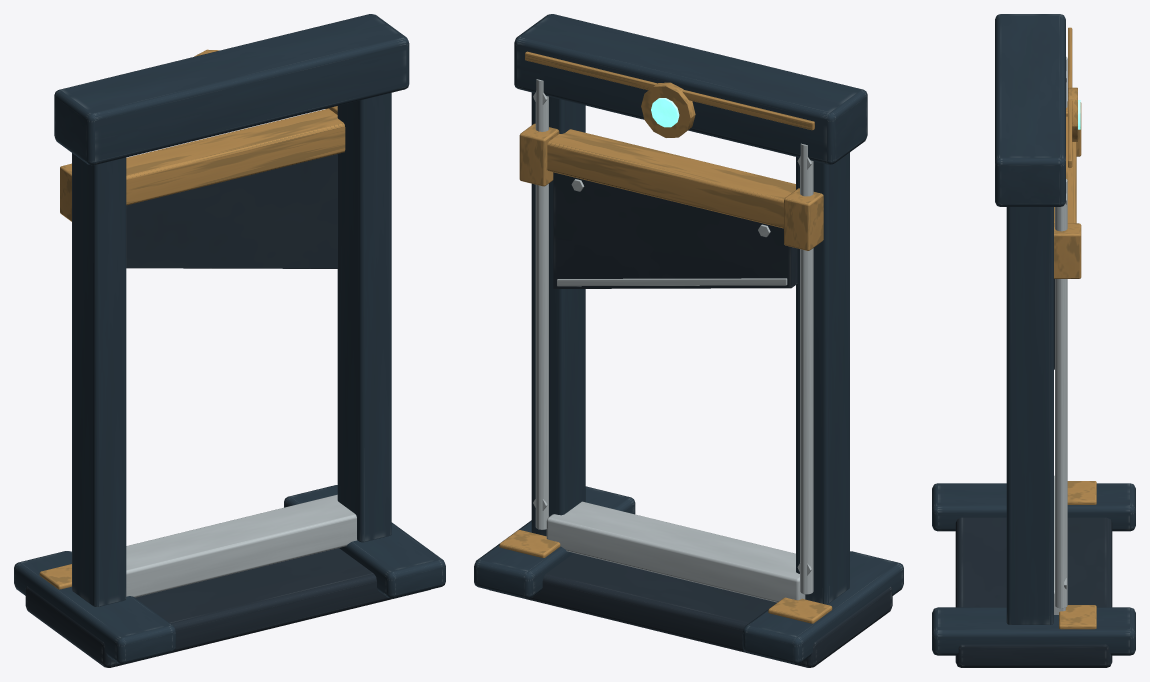
File: guillotine.glb
The picture shows the model from 3 angles, left to right: view 1: azimuth 30°, elevation 25°; view 2: azimuth 150°, elevation 25°; view 3: azimuth 270°, elevation 25°; orthographic projection. The views are drawn at different scales.
Parts seen in each view (by area): view 1: guillotine__crown, guillotine__column_neg1, guillotine__column_1, guillotine__falling_blade, guillotine__ground_foundation, guillotine__anvil, guillotine__carriage, guillotine__foot_neg1, guillotine__foot_1, guillotine__runner_neg1; view 2: guillotine__crown, guillotine__falling_blade, guillotine__column_neg1, guillotine__ground_foundation, guillotine__anvil, guillotine__column_1, guillotine__carriage, guillotine__foot_neg1, guillotine__guide_neg1, guillotine__guide_1, guillotine__foot_1, guillotine__crown_trim (+7 smaller); view 3: guillotine__column_1, guillotine__crown, guillotine__ground_foundation, guillotine__foot_1, guillotine__foot_neg1, guillotine__guide_1, guillotine__runner_1, guillotine__foot_trim_1, guillotine__carriage, guillotine__foot_trim_neg1, guillotine__crown_trim, guillotine__clock_seal.
Part boxes in pixels (x1=…): guillotine__crown: x1=54, y1=14, x2=409, y2=165; guillotine__column_neg1: x1=72, y1=153, x2=126, y2=606; guillotine__column_1: x1=337, y1=93, x2=391, y2=542; guillotine__falling_blade: x1=126, y1=154, x2=337, y2=268; guillotine__ground_foundation: x1=25, y1=548, x2=430, y2=667; guillotine__anvil: x1=126, y1=494, x2=356, y2=597; guillotine__carriage: x1=126, y1=108, x2=345, y2=205; guillotine__foot_neg1: x1=14, y1=551, x2=175, y2=664; guillotine__foot_1: x1=284, y1=485, x2=445, y2=598; guillotine__runner_neg1: x1=60, y1=163, x2=71, y2=221; guillotine__crown: x1=514, y1=14, x2=867, y2=164; guillotine__falling_blade: x1=553, y1=172, x2=797, y2=288; guillotine__column_neg1: x1=796, y1=152, x2=849, y2=604; guillotine__ground_foundation: x1=489, y1=553, x2=892, y2=667; guillotine__anvil: x1=546, y1=501, x2=805, y2=602; guillotine__column_1: x1=531, y1=92, x2=585, y2=536; guillotine__carriage: x1=547, y1=129, x2=795, y2=228; guillotine__foot_neg1: x1=742, y1=551, x2=903, y2=664; guillotine__guide_neg1: x1=800, y1=143, x2=813, y2=594; guillotine__guide_1: x1=535, y1=79, x2=548, y2=529; guillotine__foot_1: x1=474, y1=486, x2=635, y2=598; guillotine__crown_trim: x1=525, y1=51, x2=814, y2=130; guillotine__column_1: x1=1006, y1=207, x2=1053, y2=624; guillotine__crown: x1=995, y1=14, x2=1065, y2=206; guillotine__ground_foundation: x1=955, y1=517, x2=1112, y2=667; guillotine__foot_1: x1=932, y1=607, x2=1135, y2=655; guillotine__foot_neg1: x1=932, y1=483, x2=1135, y2=531; guillotine__guide_1: x1=1055, y1=179, x2=1067, y2=608; guillotine__runner_1: x1=1054, y1=223, x2=1081, y2=278; guillotine__foot_trim_1: x1=1059, y1=605, x2=1096, y2=629; guillotine__carriage: x1=1054, y1=116, x2=1076, y2=223; guillotine__foot_trim_neg1: x1=1067, y1=481, x2=1096, y2=504; guillotine__crown_trim: x1=1068, y1=27, x2=1072, y2=167; guillotine__clock_seal: x1=1068, y1=87, x2=1077, y2=141.
Bounding box in the file's own units: 1.52 × 2.37 × 0.86.
Materials: 2 (2 with a texture image).
